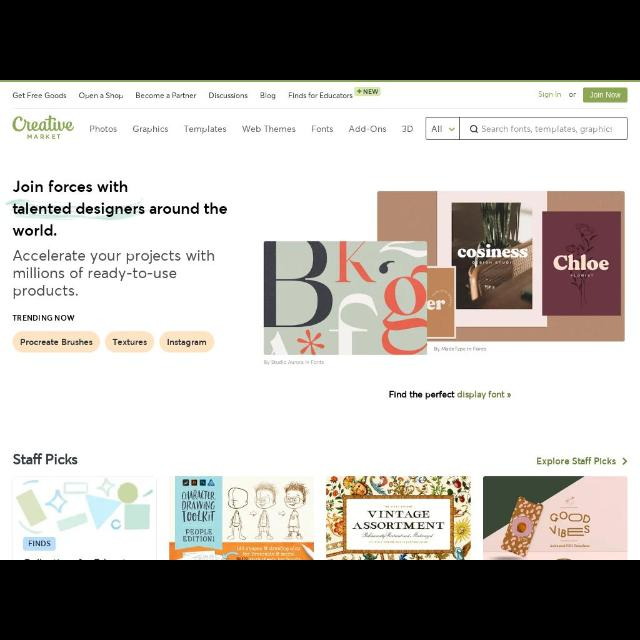icon: (470, 125, 480, 134), (620, 458, 628, 467), (356, 87, 362, 95), (448, 126, 456, 132)
image: (378, 192, 624, 342), (263, 242, 427, 356), (12, 476, 158, 560), (326, 475, 472, 559), (482, 475, 628, 559), (170, 475, 314, 559), (12, 114, 74, 140)
input: (426, 117, 628, 141)
spinner: (426, 116, 459, 140)
text: (13, 180, 229, 237), (13, 250, 215, 298), (388, 390, 512, 400), (482, 126, 614, 134), (13, 452, 78, 466), (536, 457, 618, 467), (21, 338, 94, 348), (288, 92, 354, 100), (13, 314, 76, 322), (136, 92, 198, 100), (13, 92, 67, 100), (242, 125, 296, 133), (184, 124, 226, 134), (167, 338, 207, 348), (132, 125, 168, 135), (264, 360, 324, 366), (112, 338, 148, 347), (434, 346, 488, 352), (349, 125, 387, 133), (80, 94, 124, 100), (208, 94, 248, 100), (89, 125, 118, 133), (538, 91, 562, 99), (589, 92, 621, 98), (311, 125, 334, 133), (260, 92, 276, 100), (363, 89, 379, 95), (432, 125, 444, 133), (401, 126, 413, 132), (568, 92, 576, 98)
textbutton: (583, 87, 627, 103)
toolbar: (1, 80, 640, 142)
